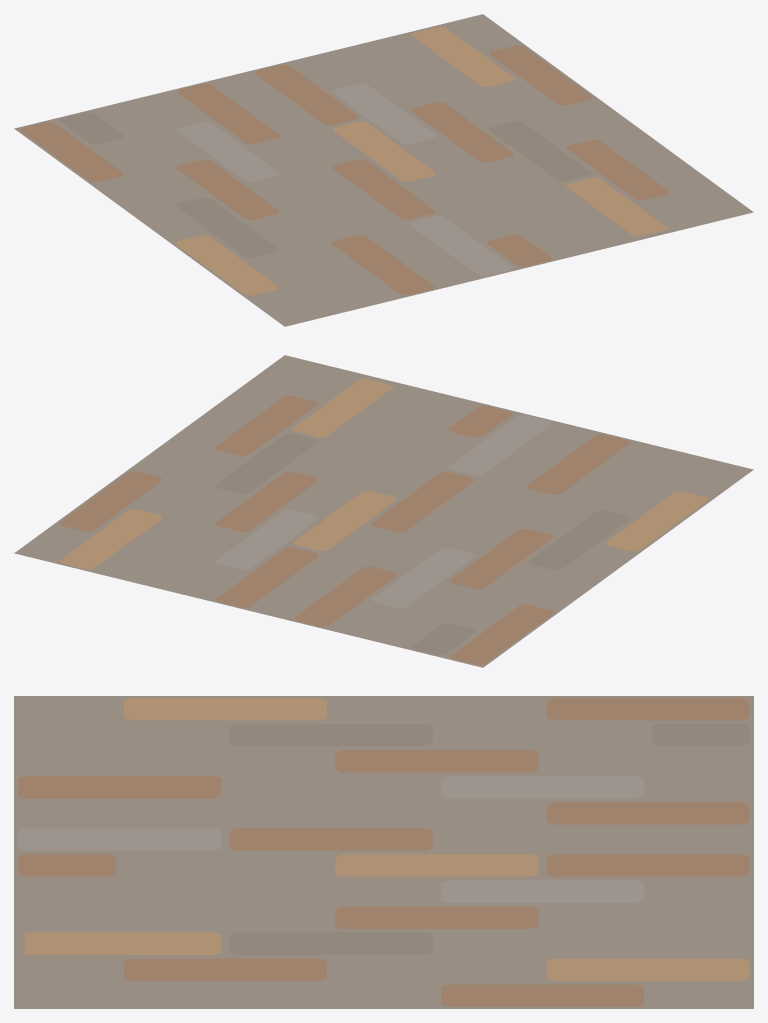
File: BG_Woodground_10M_mesh.fbx
3 views of the same model, one above another, from view 1: azimuth 30°, elevation 25°; view 2: azimuth 150°, elevation 25°; view 3: azimuth 270°, elevation 25° (orthographic). The views are drawn at different scales.
Parts seen in each view (by area): view 1: BG_ground_Wood_mesh; view 2: BG_ground_Wood_mesh; view 3: BG_ground_Wood_mesh.
Boxes of the visible parts, x1,y1,x2,y2 form: BG_ground_Wood_mesh: (14,14,753,326); BG_ground_Wood_mesh: (14,355,753,667); BG_ground_Wood_mesh: (14,696,753,1008).
Size of the model in its own units: 100 by 6.12e-15 by 100.
